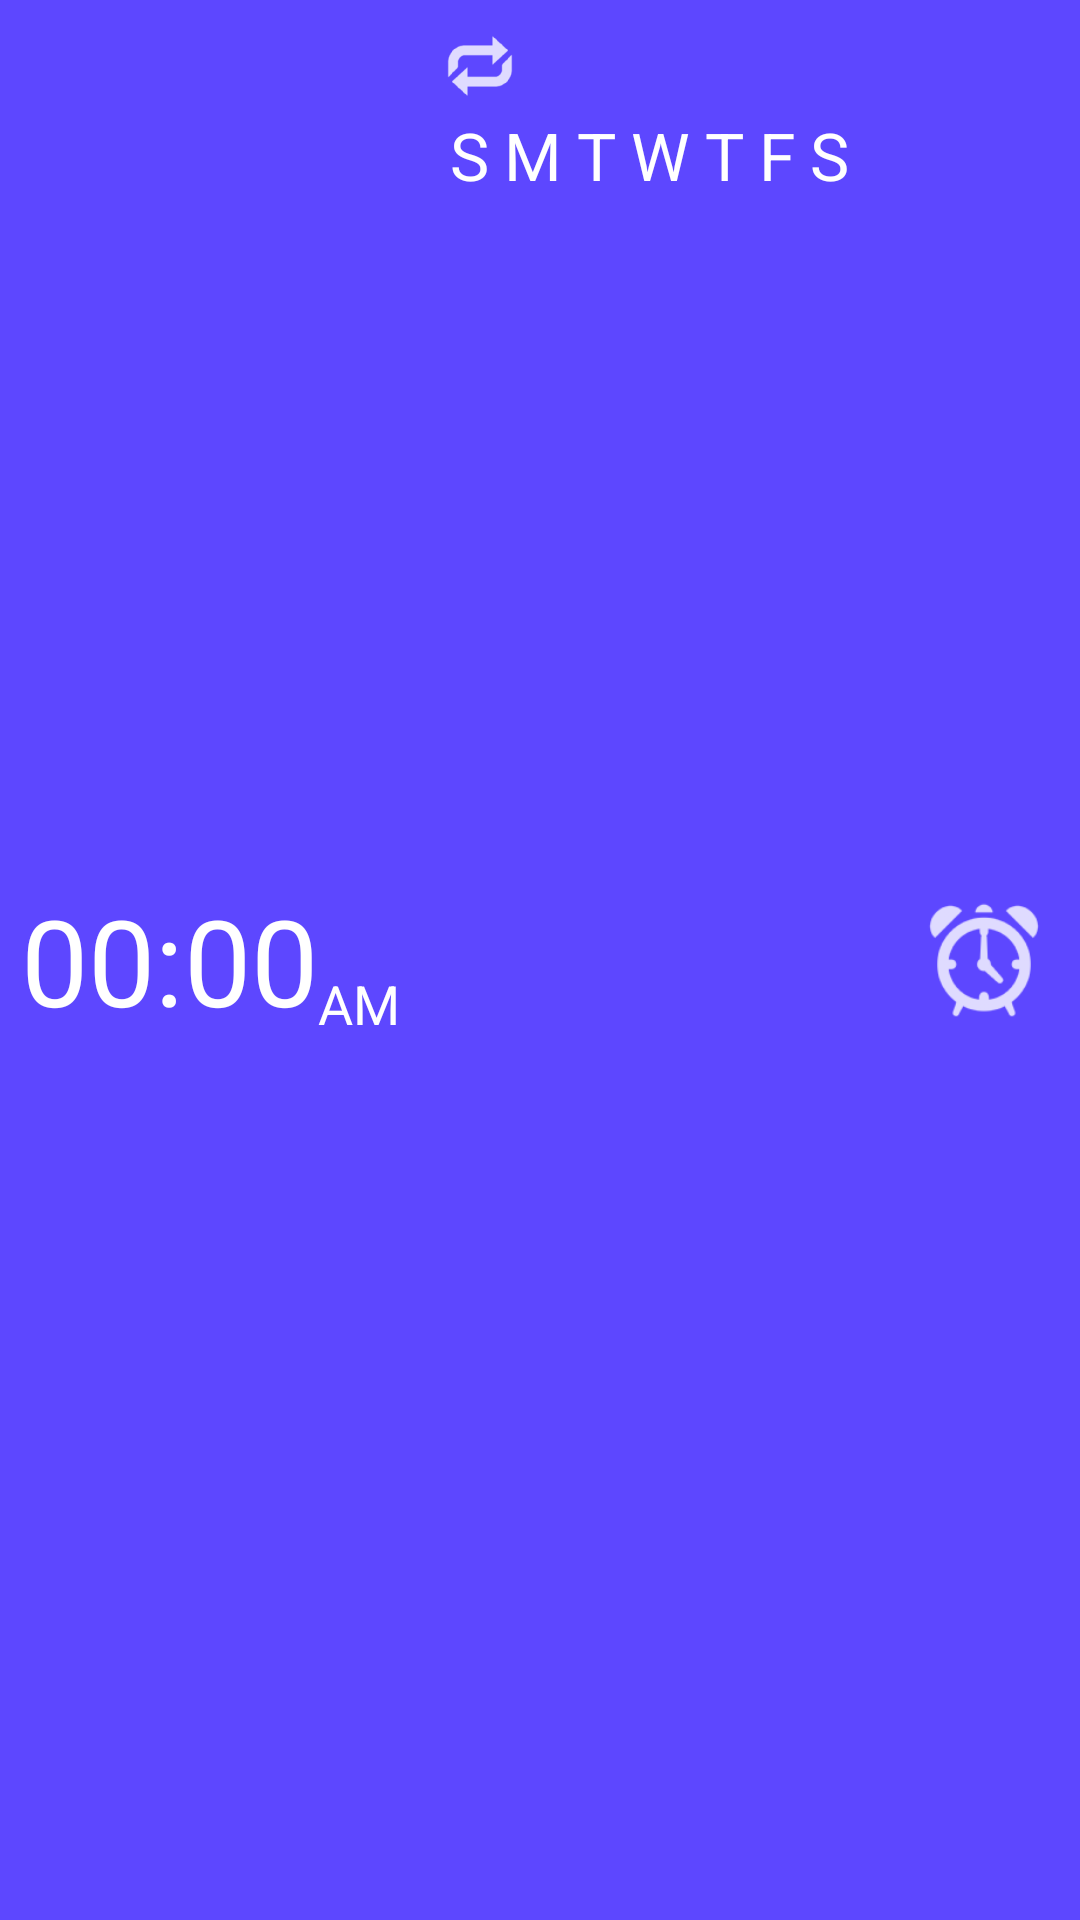

Icons on this 1080×1920 Android screen, each with the point to tap as (x=x, y=y):
alarm on off: (x=984, y=960)
repeat: (x=480, y=66)
